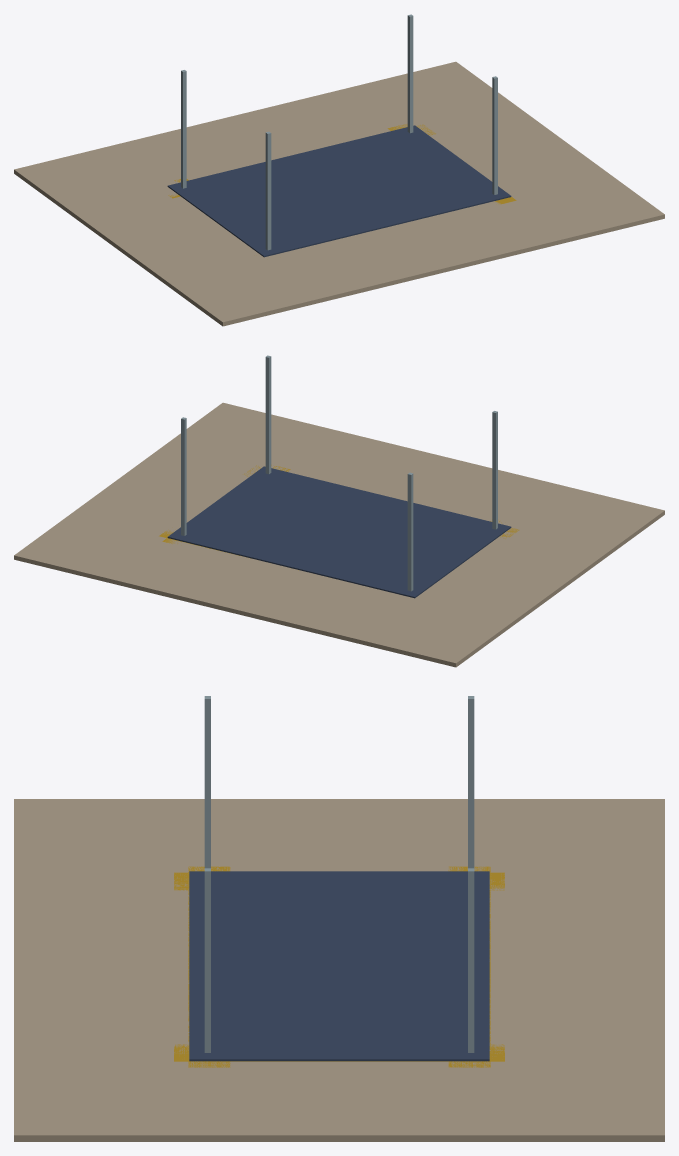
The model's file is stage_05_beams.glb.
3 renders of one model, top to bottom at view 1: azimuth 30°, elevation 25°; view 2: azimuth 150°, elevation 25°; view 3: azimuth 270°, elevation 25°, orthographic. The views are drawn at different scales.
Parts seen in each view (by area): view 1: world; view 2: world; view 3: world.
Boxes of the visible parts, x1,y1,x2,y2 form: world: [14, 14, 664, 326]; world: [14, 355, 664, 667]; world: [14, 696, 664, 1141].
Size of the model in its own units: 11 by 3.6 by 9.
